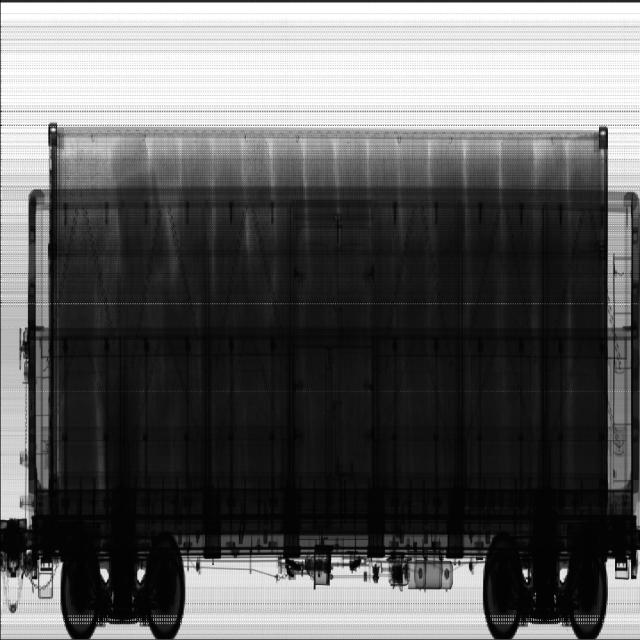clothes: (59, 140, 601, 485)
